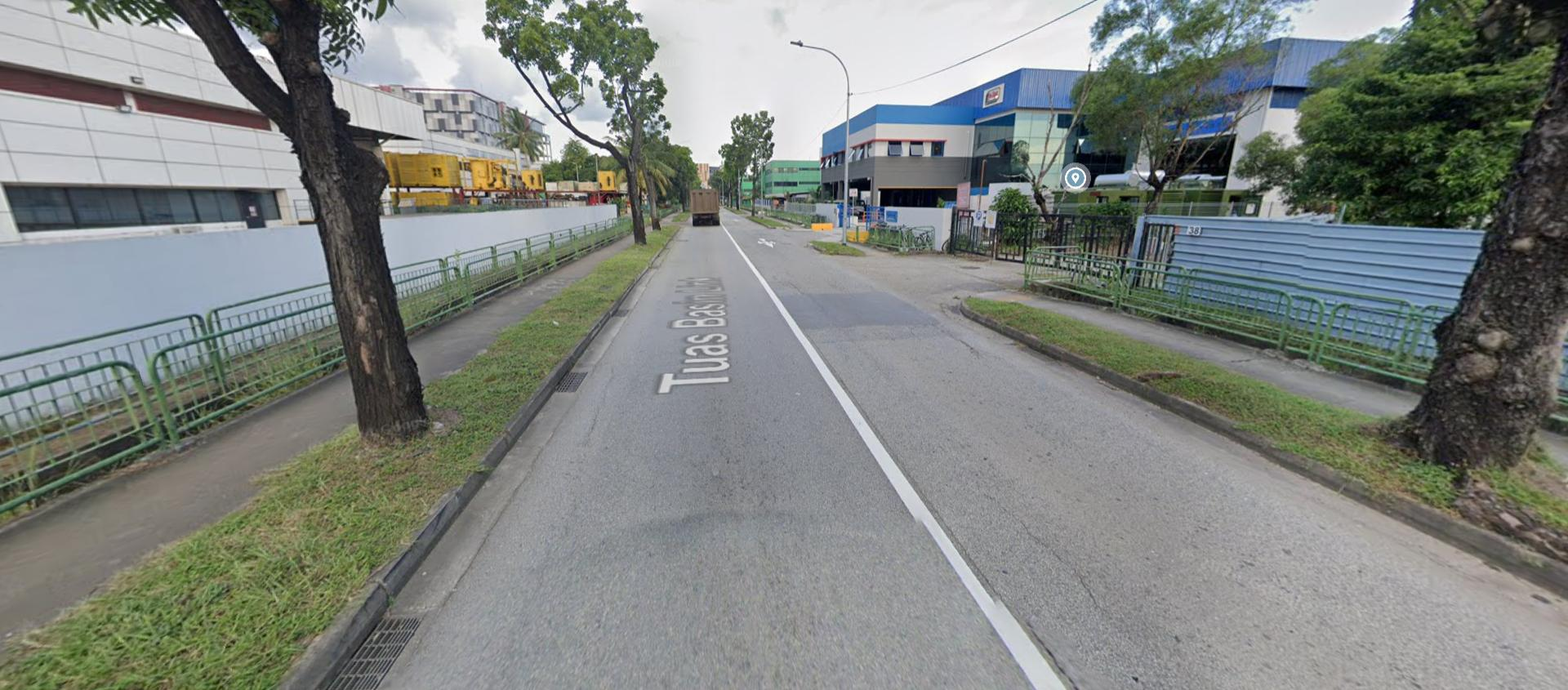normal: (329, 616, 425, 689), (557, 371, 587, 391)
